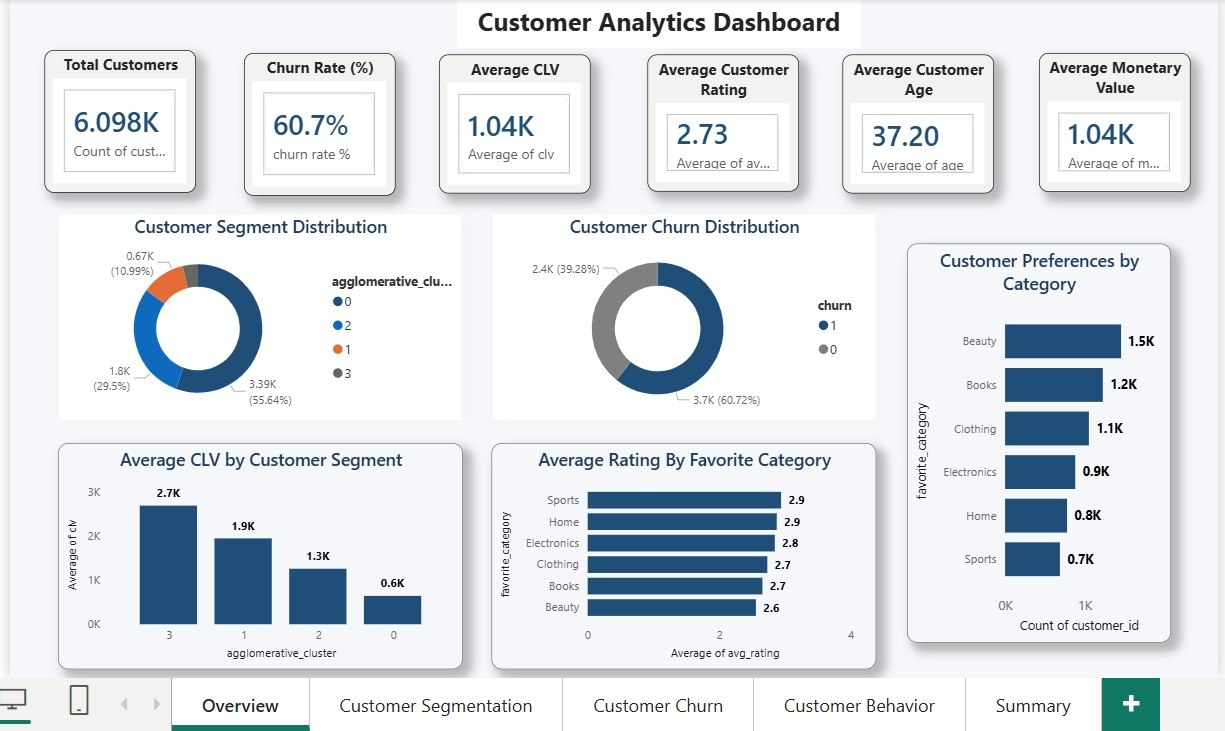

The dashboard page shown, as its layout file describes it:
{"tool":"powerbi","page":{"name":"Overview","canvas":[1280,720],"ordinal":0},"visuals":[{"type":"cardVisual","title":"Total Customers","fields":{"Data":["Count(customer_behavior.customer_id)"]},"box":[35.9,54.8,160.6,151.2],"z":0},{"type":"cardVisual","title":"Churn Rate (%)","fields":{"Data":["customer_churn.churn rate %"]},"box":[247.6,56.7,160.6,151.2],"z":1000},{"type":"cardVisual","title":"Average CLV","fields":{"Data":["Avg(customer_lifetime.clv)"]},"box":[455.4,58.6,160.6,147.4],"z":2000},{"type":"cardVisual","title":"Average Customer Age","fields":{"Data":["Avg(customer_churn.age)"]},"box":[882.5,58.6,160.6,147.4],"z":3000},{"type":"cardVisual","title":"Average Customer Rating","fields":{"Data":["Avg(customer_behavior.avg_rating)"]},"box":[676.5,58.6,160.6,145.5],"z":4000},{"type":"cardVisual","title":"Average Monetary Value","fields":{"Data":["Avg(customer_lifetime.monetary)"]},"box":[1090.4,56.7,160.6,147.4],"z":5000},{"type":"donutChart","title":"Customer Segment Distribution","fields":{"Category":["customer_segmentation.agglomerative_cluster"],"Y":["CountNonNull(customer_segmentation.customer_id)"]},"box":[51,226.8,429,219.2],"z":6000},{"type":"donutChart","title":"Customer Churn Distribution","fields":{"Category":["customer_churn.churn"],"Y":["CountNonNull(customer_churn.customer_id)"]},"box":[510.2,226.8,408.2,219.2],"z":7000},{"type":"clusteredBarChart","title":"Customer Preferences by Category","fields":{"Category":["customer_behavior.favorite_category"],"Y":["CountNonNull(customer_behavior.customer_id)"]},"box":[950.6,258.9,279.7,423.3],"z":8000},{"type":"clusteredColumnChart","title":"Average CLV by Customer Segment","fields":{"Category":["customer_segmentation.agglomerative_cluster"],"Y":["Avg(customer_lifetime.clv)"]},"box":[50.9,470.8,429.5,240.2],"z":9000},{"type":"clusteredBarChart","title":"Average Rating By Favorite Category","fields":{"Category":["customer_behavior.favorite_category"],"Y":["Avg(customer_behavior.avg_rating)"]},"box":[510.2,470.6,408.2,240],"z":10000},{"type":"textbox","box":[474.3,0,429,51],"z":11000}]}

Visuals, with their boxes on the page's 1280x720 design canvas (x1, y1, x2, y2). These are canvas units, not pixel positions in the 1225x731 screenshot, which may show the page scaled, cropped or inside an application window:
"Total Customers" cardVisual: (36,55,196,206)
"Churn Rate (%)" cardVisual: (248,57,408,208)
"Average CLV" cardVisual: (455,59,616,206)
"Average Customer Age" cardVisual: (882,59,1043,206)
"Average Customer Rating" cardVisual: (676,59,837,204)
"Average Monetary Value" cardVisual: (1090,57,1251,204)
"Customer Segment Distribution" donutChart: (51,227,480,446)
"Customer Churn Distribution" donutChart: (510,227,918,446)
"Customer Preferences by Category" clusteredBarChart: (951,259,1230,682)
"Average CLV by Customer Segment" clusteredColumnChart: (51,471,480,711)
"Average Rating By Favorite Category" clusteredBarChart: (510,471,918,711)
textbox: (474,0,903,51)
